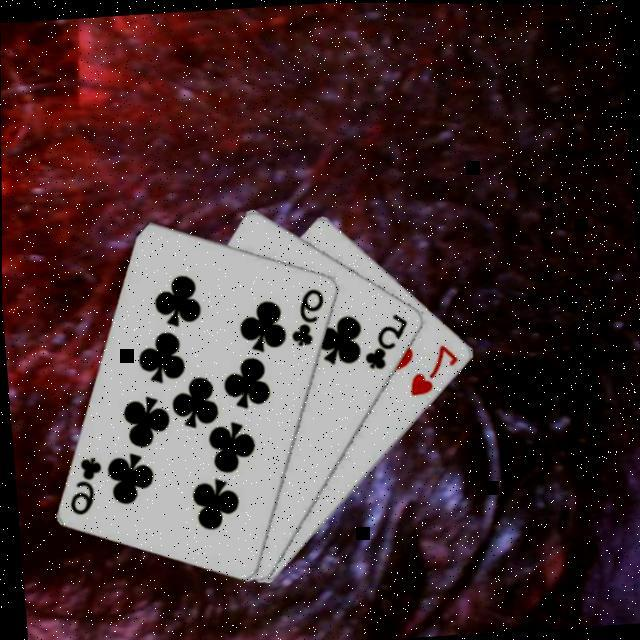5C: (359, 307, 414, 370)
7H: (404, 336, 464, 396)
9C: (286, 282, 330, 348), (64, 450, 108, 516)
